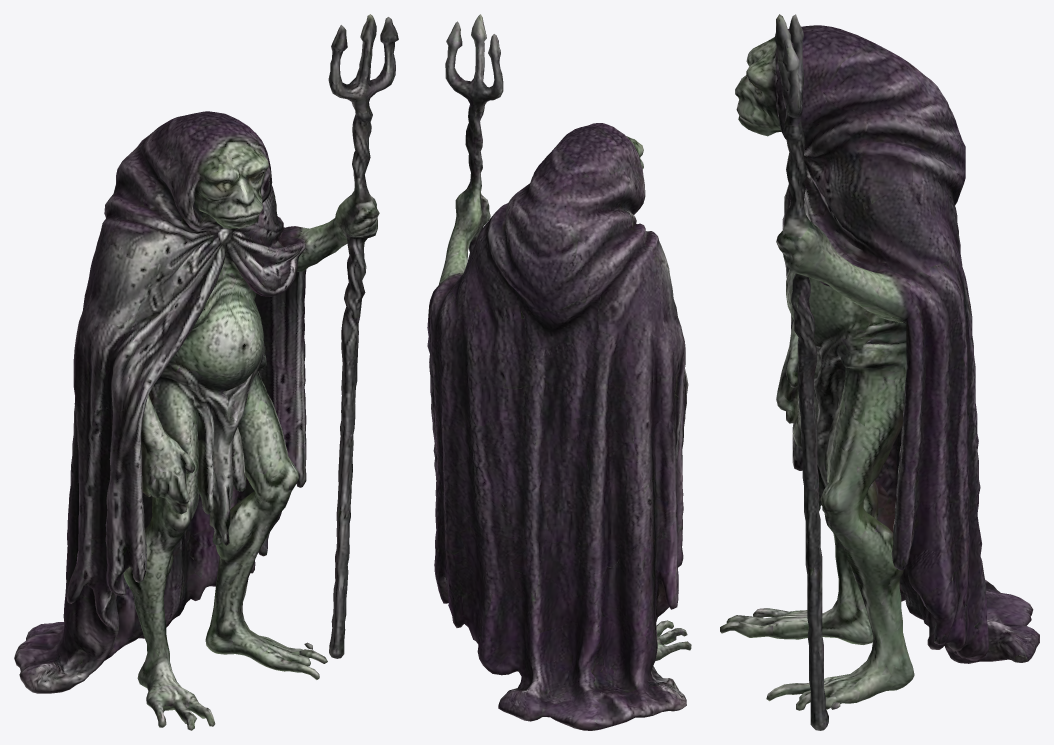
File: Spree_Vodnik.glb
3 views of the same model, side by side, from view 1: azimuth 30°, elevation 25°; view 2: azimuth 150°, elevation 25°; view 3: azimuth 270°, elevation 25° (orthographic). The views are drawn at different scales.
Bounding box in the file's own units: 0.9589 × 1.9 × 0.7593.
1 material, 1 textured.
